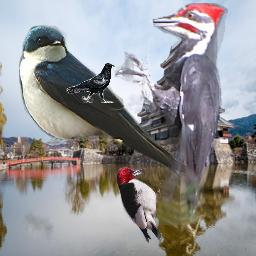Crow: (66, 63, 116, 103)
Swallow: (19, 25, 200, 180)
Woodpecker: (114, 3, 228, 225), (116, 167, 163, 243)
